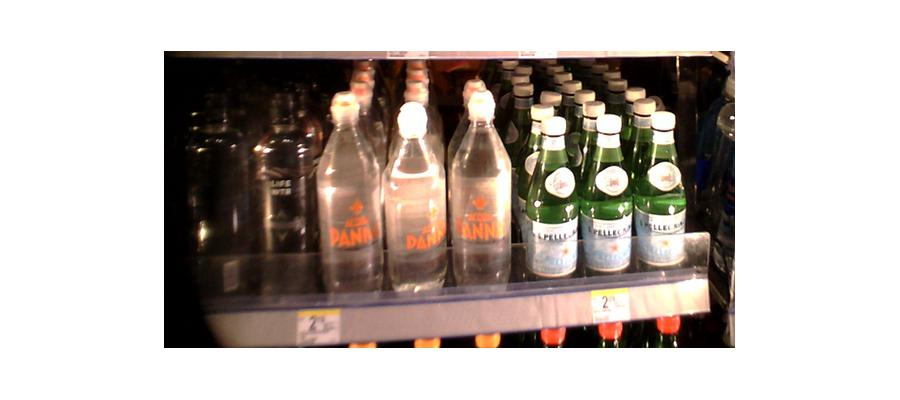bottle: (253, 90, 320, 300), (319, 99, 381, 295), (382, 111, 446, 298), (449, 100, 511, 292), (182, 103, 247, 285), (522, 113, 580, 285), (582, 109, 634, 277), (638, 107, 689, 272)
